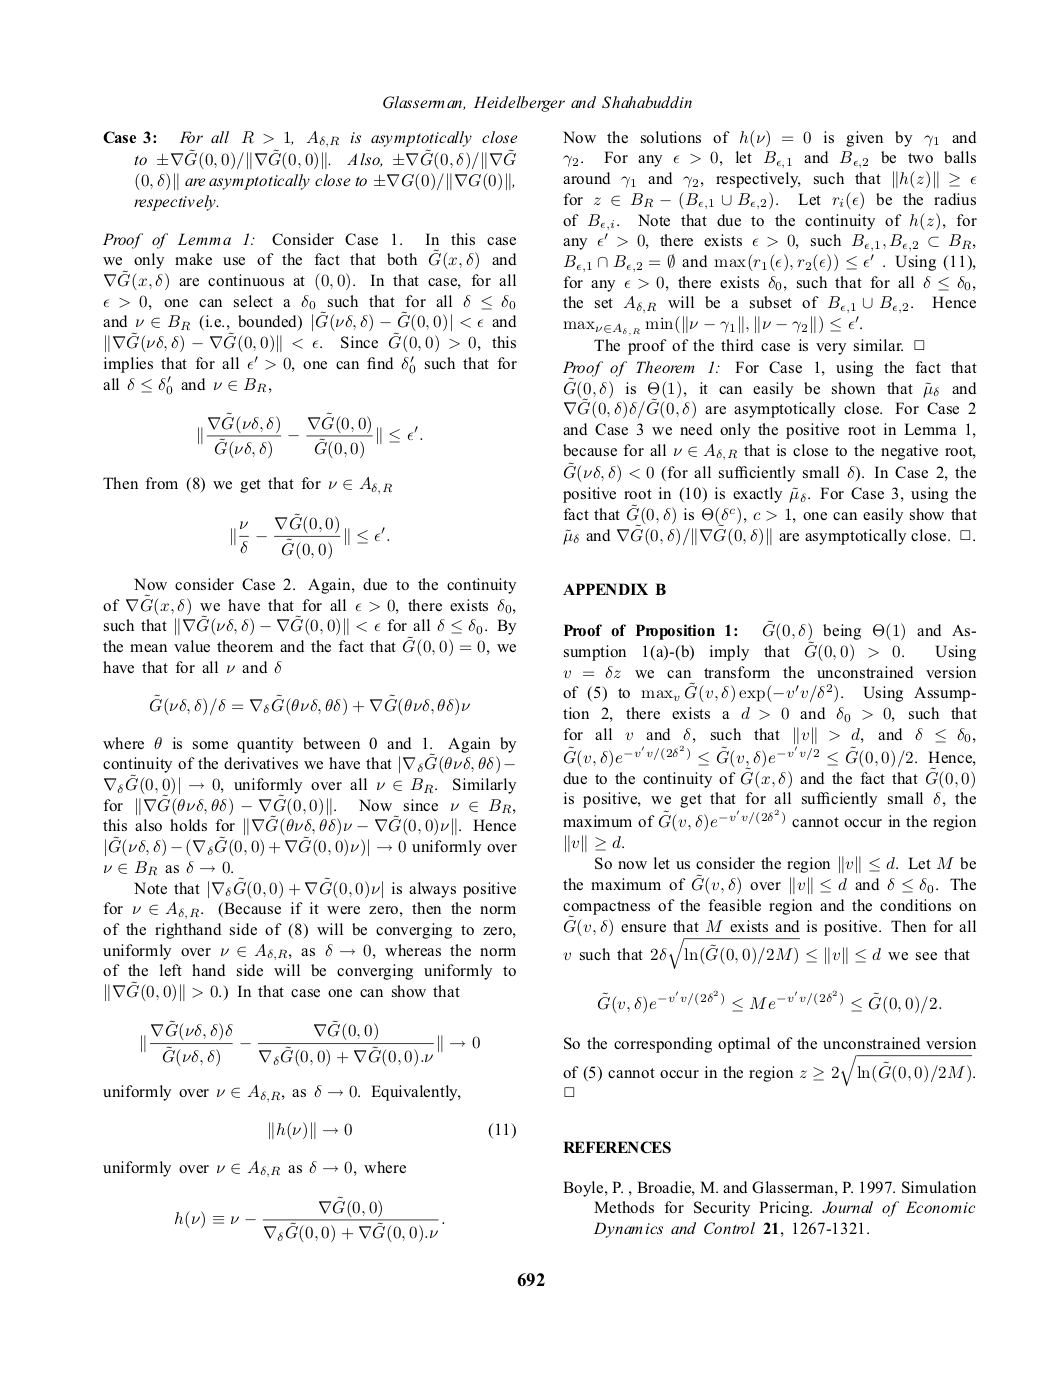formula: (142, 1019, 479, 1067), (175, 1199, 444, 1243), (198, 411, 422, 459), (597, 989, 941, 1014), (231, 512, 389, 559), (149, 693, 469, 715), (269, 1121, 515, 1140)
